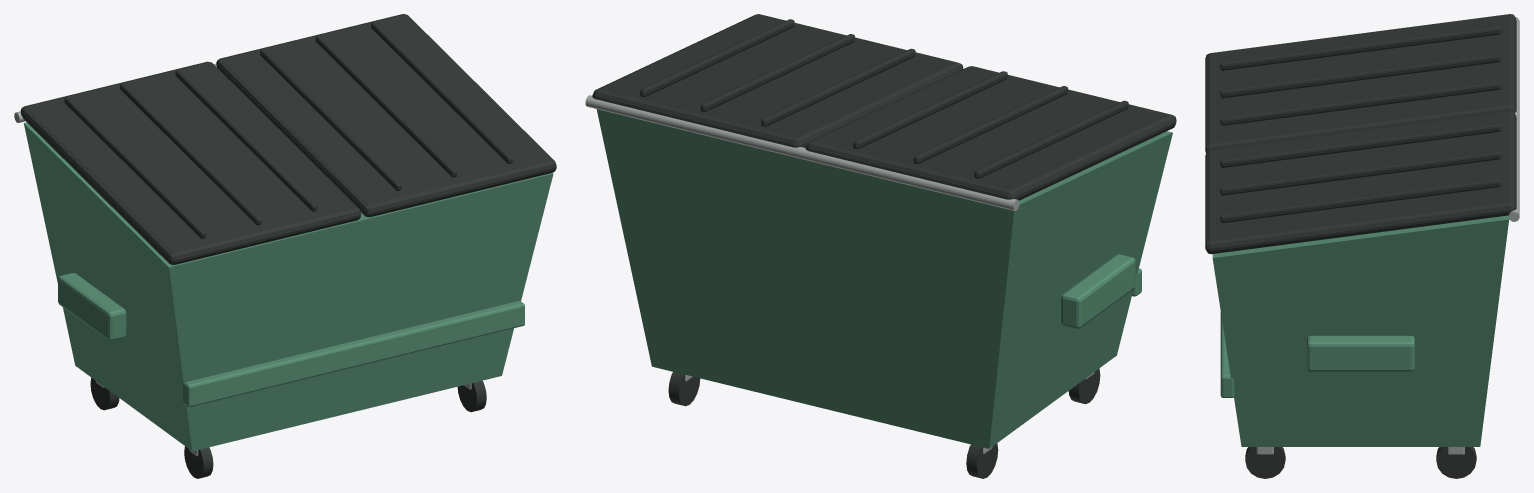
File: dumpster_standard.glb
3 views of the same model, side by side, from view 1: azimuth 30°, elevation 25°; view 2: azimuth 150°, elevation 25°; view 3: azimuth 270°, elevation 25° (orthographic). The views are drawn at different scales.
Visible parts, largest first — view 1: Standard dumpster hollow body, Left hinged lid, Right hinged lid, Front protective rub rail, Side lifting pocket, Lid strengthening rib.004, Lid strengthening rib.002, Lid strengthening rib.003, Lid strengthening rib.005, Lid strengthening rib.001, Lid strengthening rib, Dumpster caster wheel (+1 smaller); view 2: Standard dumpster hollow body, Left hinged lid, Right hinged lid, Rear lid hinge pin, Side lifting pocket, Lid strengthening rib.003, Lid strengthening rib, Lid strengthening rib.001, Lid strengthening rib.002, Lid strengthening rib.004, Lid strengthening rib.005, Dumpster caster wheel.001 (+2 smaller); view 3: Standard dumpster hollow body, Right hinged lid, Left hinged lid, Side lifting pocket.001, Lid strengthening rib, Lid strengthening rib.003, Lid strengthening rib.002, Lid strengthening rib.001, Lid strengthening rib.004, Lid strengthening rib.005, Dumpster caster wheel.003, Dumpster caster wheel.002 (+2 smaller).
Boxes of the visible parts, x1,y1,x2,y2 form: Standard dumpster hollow body: (23,122,553,451); Left hinged lid: (20,61,360,264); Right hinged lid: (216,14,556,217); Front protective rub rail: (183,301,524,407); Side lifting pocket: (58,273,126,340); Lid strengthening rib.004: (315,35,457,177); Lid strengthening rib.002: (175,69,317,211); Lid strengthening rib.003: (260,49,401,190); Lid strengthening rib.005: (371,22,512,163); Lid strengthening rib.001: (120,83,261,225); Lid strengthening rib: (64,96,206,238); Dumpster caster wheel: (184,446,213,478); Standard dumpster hollow body: (596,109,1172,448); Left hinged lid: (805,66,1176,200); Right hinged lid: (592,14,963,147); Rear lid hinge pin: (585,95,1019,210); Side lifting pocket: (1061,254,1135,328); Lid strengthening rib.003: (761,48,915,126); Lid strengthening rib: (974,100,1128,178); Lid strengthening rib.001: (913,86,1068,163); Lid strengthening rib.002: (853,71,1007,148); Lid strengthening rib.004: (700,34,854,111); Lid strengthening rib.005: (640,19,794,96); Dumpster caster wheel.001: (966,443,998,478); Standard dumpster hollow body: (1212,215,1509,446); Right hinged lid: (1205,111,1516,254); Left hinged lid: (1205,14,1516,152); Side lifting pocket.001: (1307,335,1414,371); Lid strengthening rib: (1220,26,1501,70); Lid strengthening rib.003: (1220,123,1501,167); Lid strengthening rib.002: (1220,81,1501,125); Lid strengthening rib.001: (1220,54,1501,98); Lid strengthening rib.004: (1220,151,1501,195); Lid strengthening rib.005: (1220,179,1501,222); Dumpster caster wheel.003: (1436,447,1476,478); Dumpster caster wheel.002: (1245,447,1285,478).
Size of the model in its own units: 1.93 by 1.34 by 1.25.
